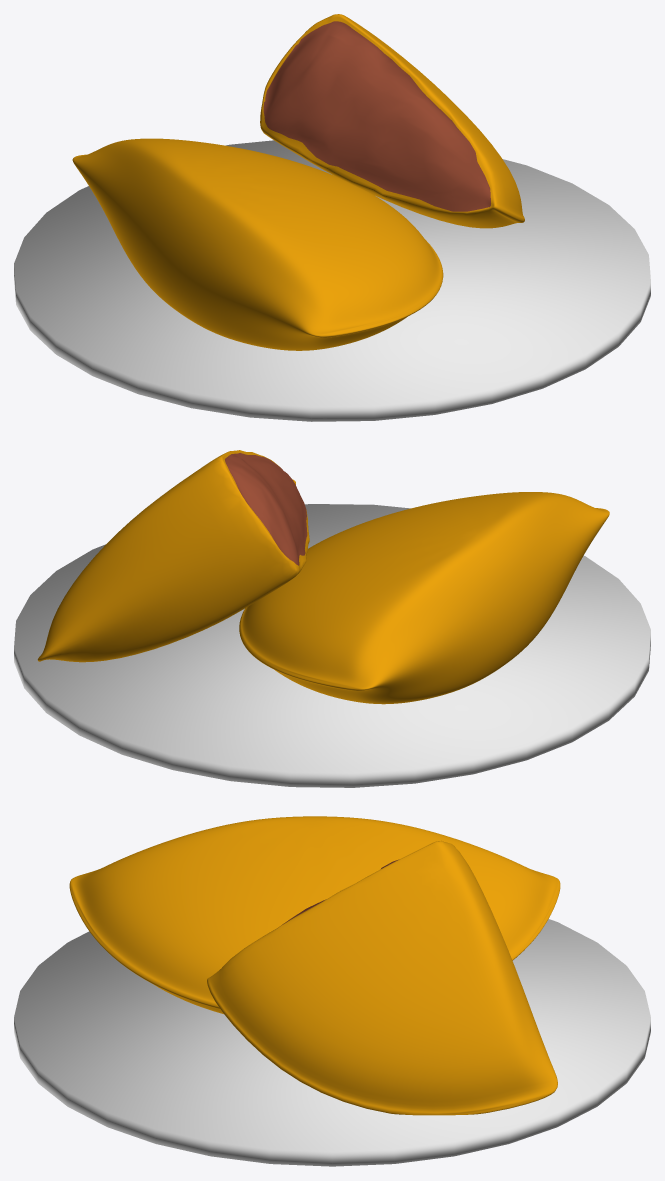
File: Empanada.glb
3 views of the same model, one above another, from view 1: azimuth 30°, elevation 25°; view 2: azimuth 150°, elevation 25°; view 3: azimuth 270°, elevation 25° (orthographic).
Parts seen in each view (by area): view 1: Circle, Sphere, Sphere.001; view 2: Circle, Sphere, Sphere.001; view 3: Circle, Sphere.001, Sphere.
Boxes of the visible parts, box(x1,y1,x2,y2) form: Circle: box(14, 140, 650, 421); Sphere: box(72, 138, 443, 350); Sphere.001: box(260, 14, 524, 228); Circle: box(14, 504, 650, 787); Sphere: box(239, 492, 609, 704); Sphere.001: box(37, 450, 309, 662); Circle: box(14, 919, 650, 1166); Sphere.001: box(207, 840, 557, 1115); Sphere: box(69, 816, 560, 1013).
Bounding box in the file's own units: 7.8 × 2.96 × 7.8.
2 materials, 1 textured.
